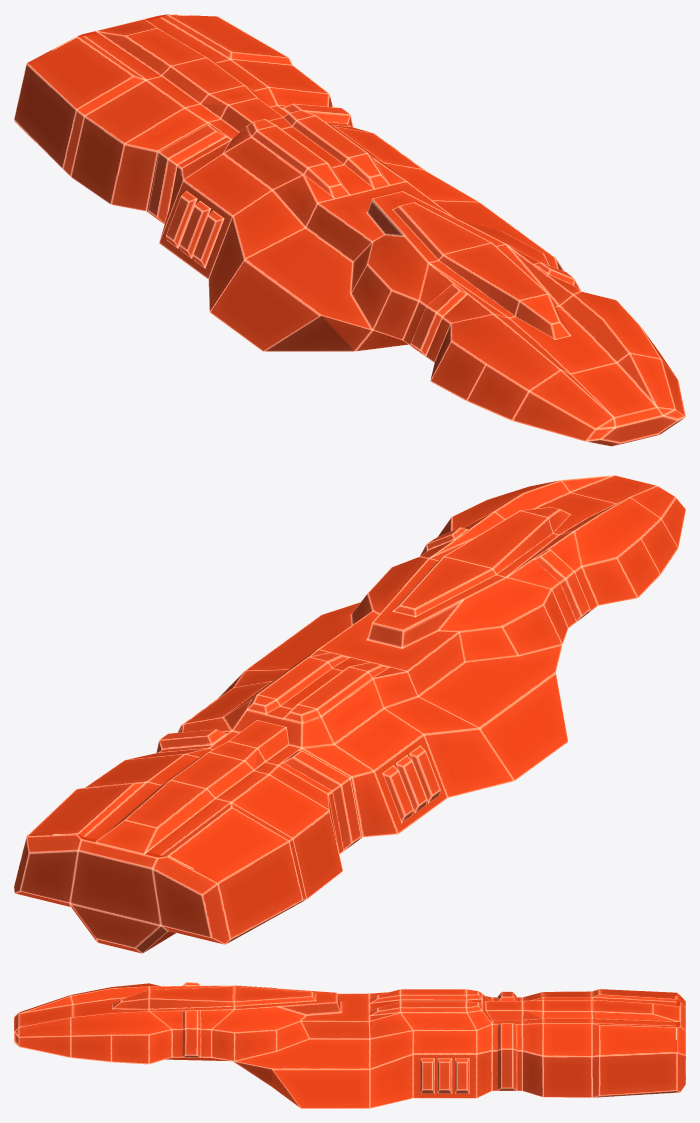
The model's file is enemy_dreadnaught.FBX.
3 views of the same model, one above another, from view 1: azimuth 30°, elevation 25°; view 2: azimuth 150°, elevation 25°; view 3: azimuth 270°, elevation 25° (orthographic). The views are drawn at different scales.
Visible parts, largest first — view 1: Dreadnaught_enemy; view 2: Dreadnaught_enemy; view 3: Dreadnaught_enemy.
Part boxes in pixels (x1,y1,x2,y2): Dreadnaught_enemy: (14, 14, 685, 446); Dreadnaught_enemy: (14, 475, 685, 953); Dreadnaught_enemy: (14, 982, 685, 1108).
Bounding box in the file's own units: 186 × 80.92 × 554.
